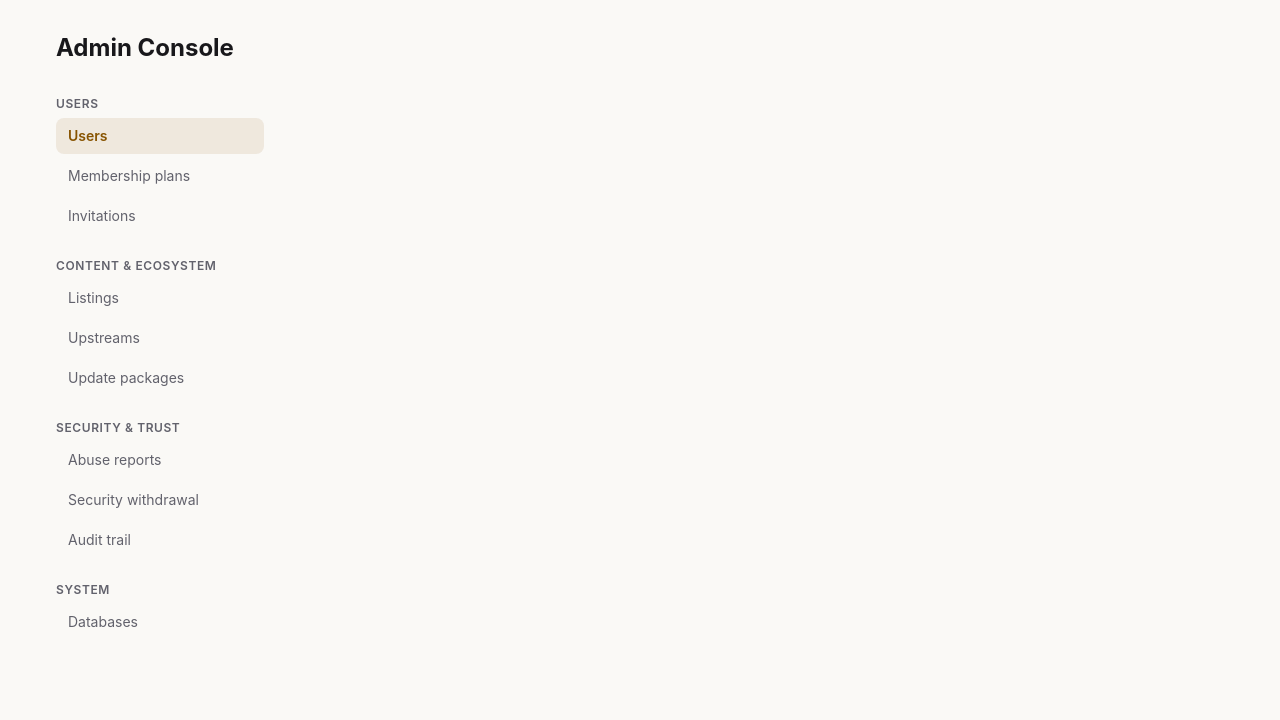
it: AdminView invitation console (管理 · 邀请码) › sits in the users nav group and lists the code ledger
The width and height of the screenshot is (1280, 720).
Click the tab "Invitations" at (160, 216), box [56,198,264,234]
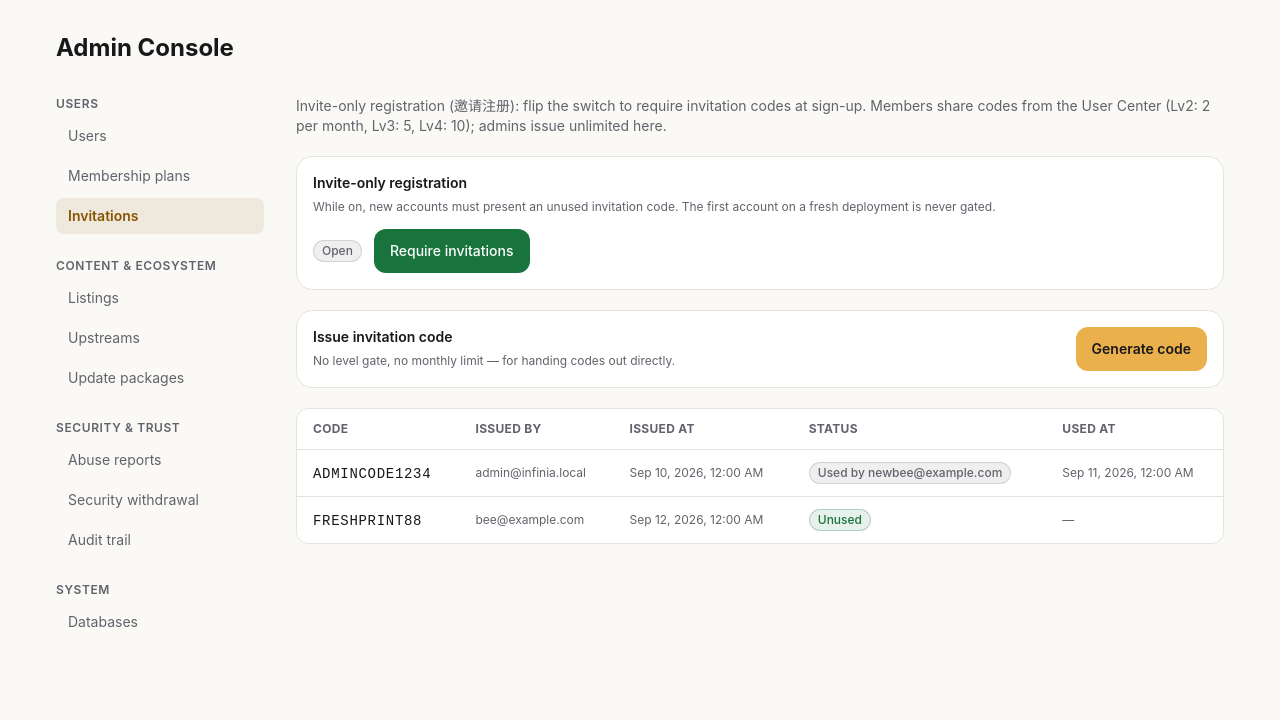
Expected: the element with test id "registration-policy-card" is shown, [296,156,1224,290]
Expected: the table with test id "admin-invitations-table" shows "ADMINCODE1234", [313,466,431,482]
Expected: the table with test id "admin-invitations-table" shows "admin@infinia.local", [476,465,586,480]
